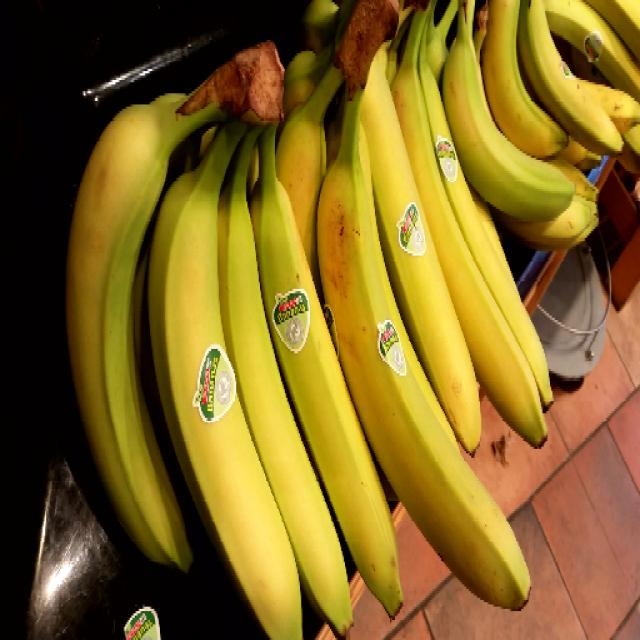banana: (58, 34, 405, 640), (286, 2, 552, 624), (444, 0, 640, 263)
